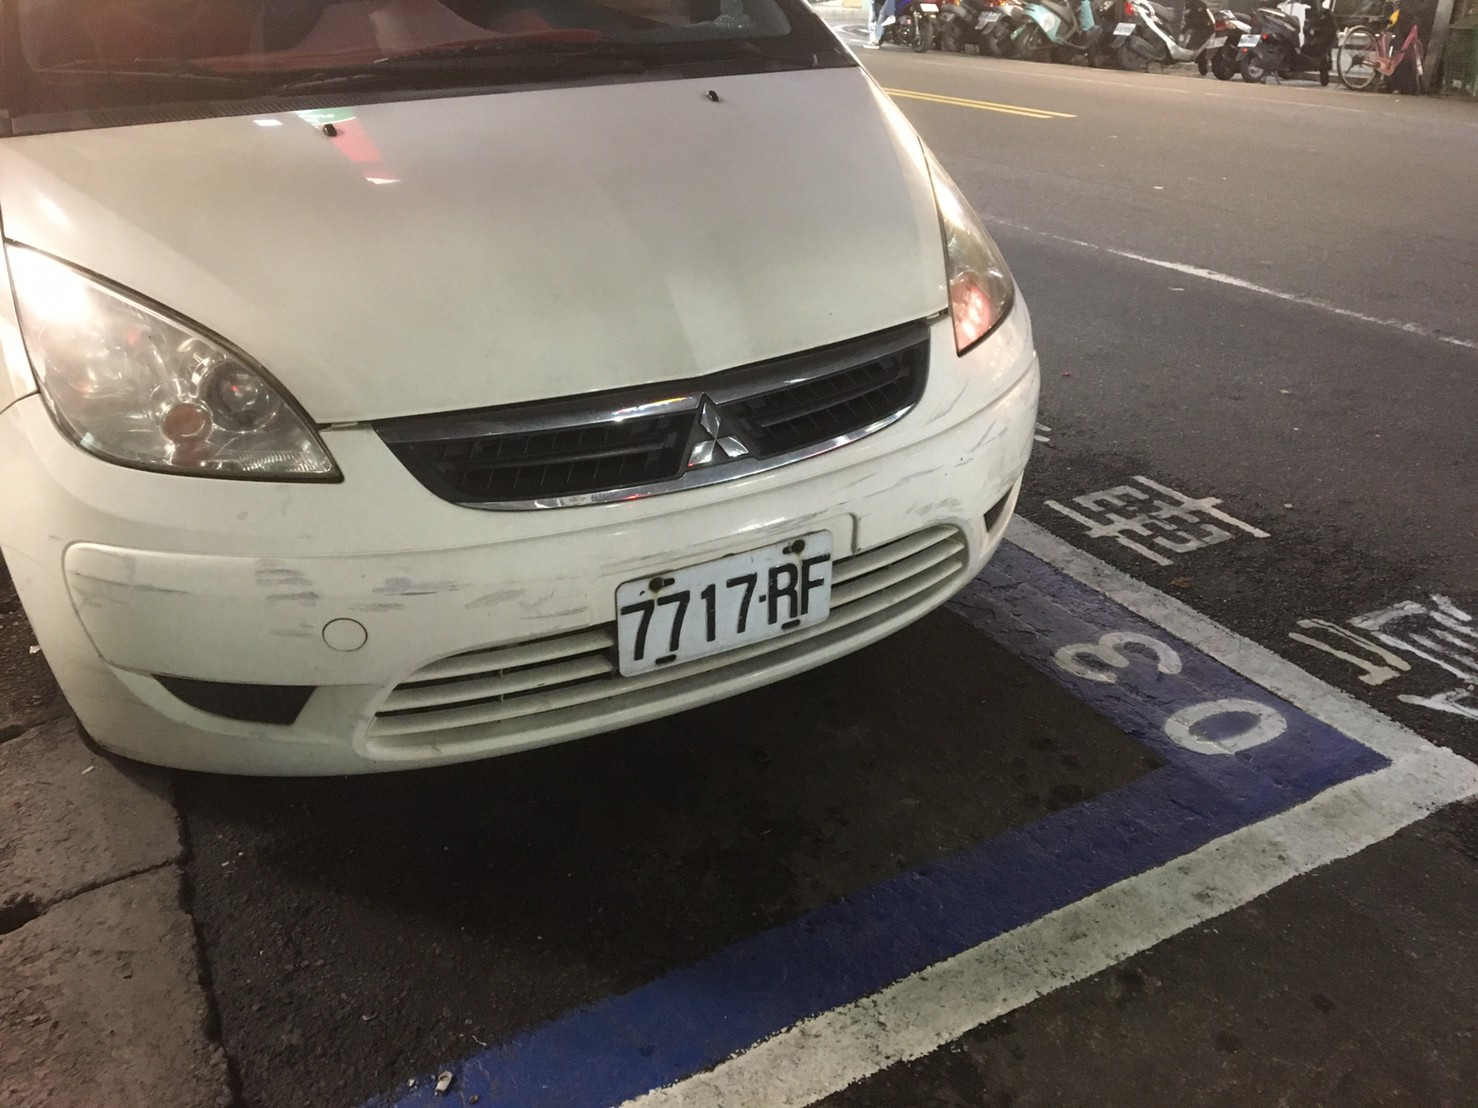LP: (611, 525, 836, 691)
